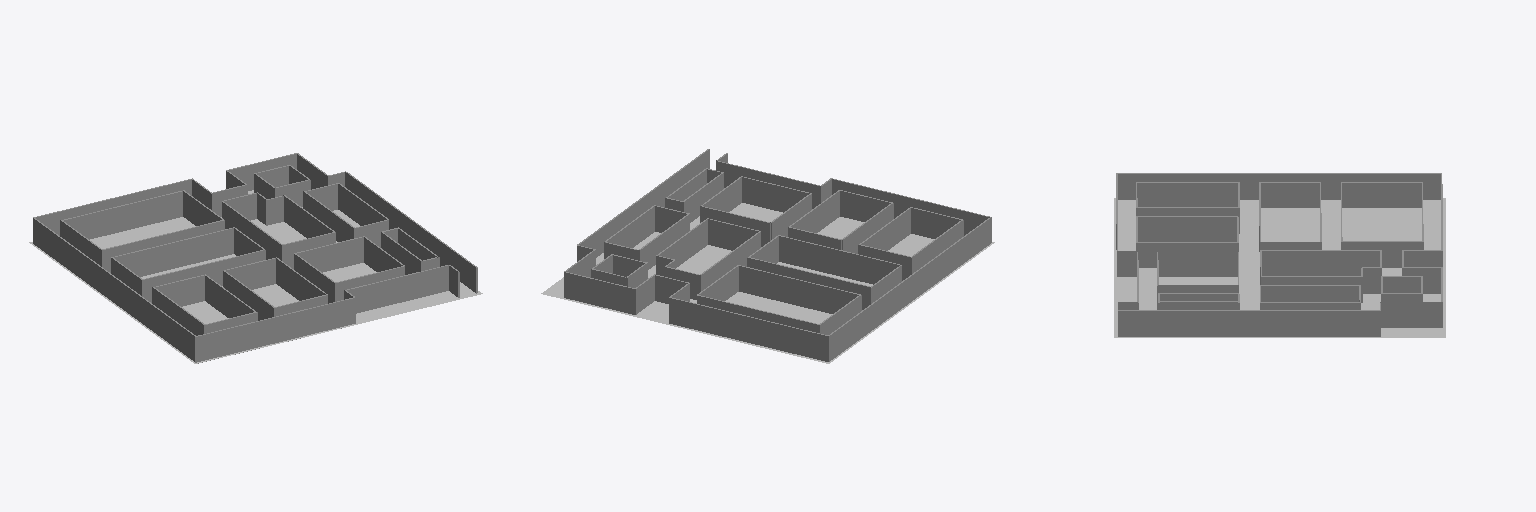
3 renders of one model, left to right at view 1: azimuth 30°, elevation 25°; view 2: azimuth 150°, elevation 25°; view 3: azimuth 270°, elevation 25°, orthographic.
Visible parts, largest first — view 1: linea_derecha.018_Cube.015; view 2: linea_derecha.018_Cube.015; view 3: linea_derecha.018_Cube.015.
Part boxes in pixels (bbox=[...]): linea_derecha.018_Cube.015: bbox=[29, 153, 482, 363]; linea_derecha.018_Cube.015: bbox=[541, 149, 994, 363]; linea_derecha.018_Cube.015: bbox=[1114, 173, 1445, 337].
Bounding box in the file's own units: 16.34 × 1.49 × 16.34.